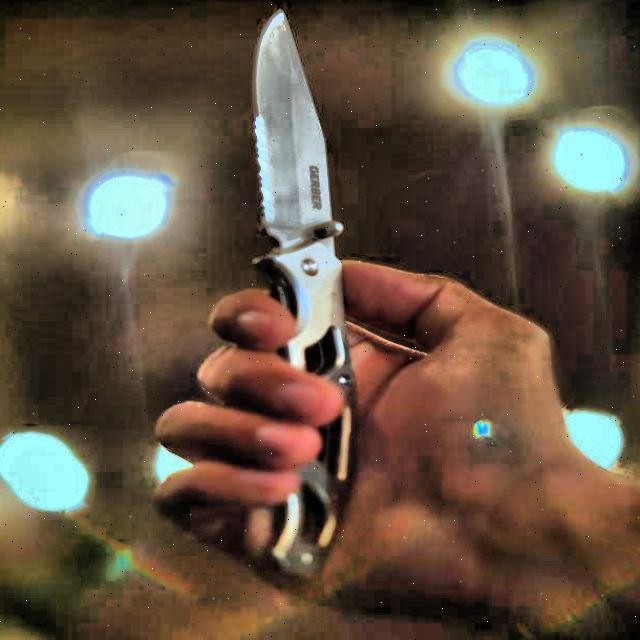knife: (243, 10, 371, 587)
